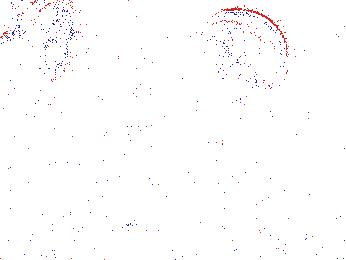moon jellyfish: (205, 8, 289, 93), (113, 41, 178, 137), (1, 40, 89, 105), (14, 1, 79, 85), (161, 13, 242, 76)
